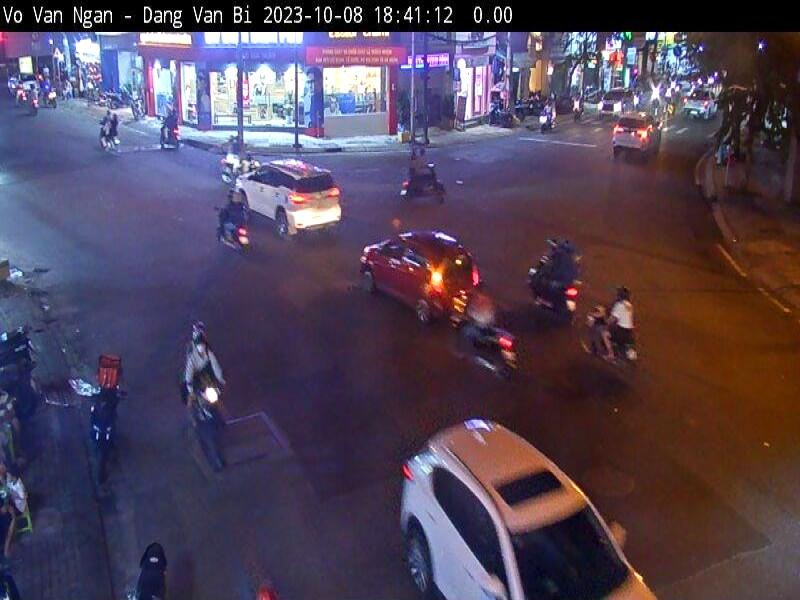car: (397, 404, 657, 600), (359, 219, 483, 331), (230, 142, 344, 239)
motorcycle: (182, 374, 232, 471), (583, 305, 640, 389), (527, 244, 577, 328), (89, 377, 123, 480), (131, 534, 176, 600), (394, 170, 455, 218)
